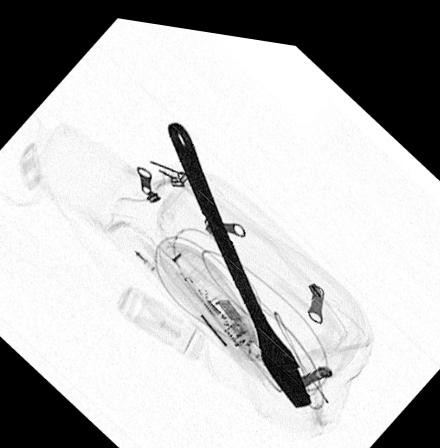Wrench: (165, 113, 313, 398)
